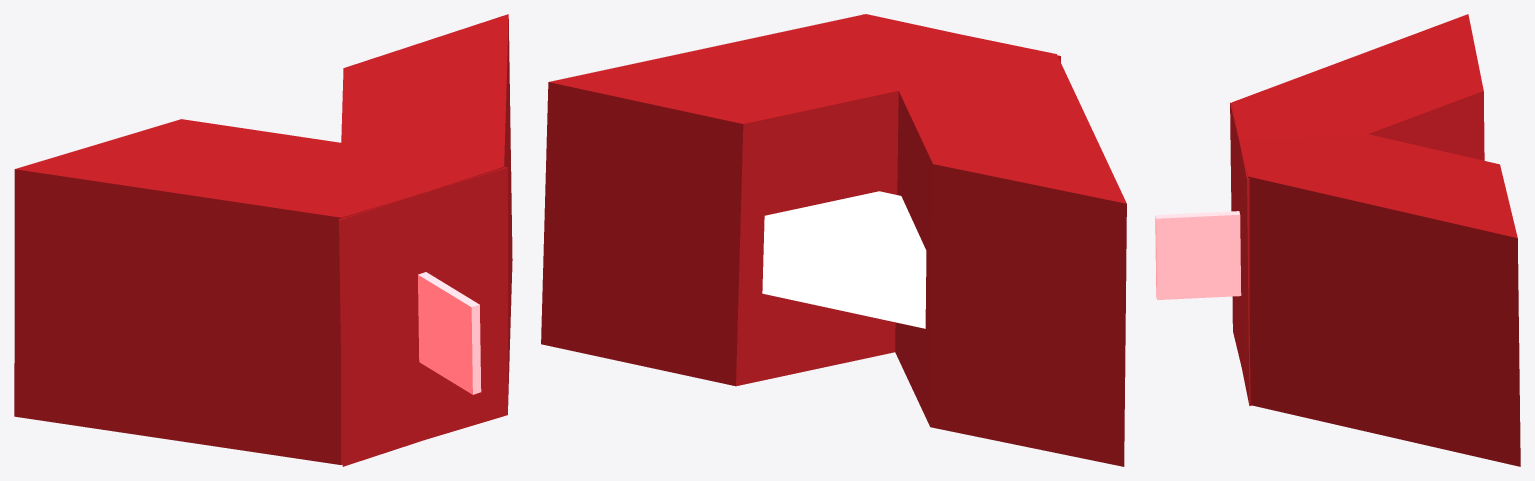
The model's file is player2.glb.
3 renders of one model, left to right at view 1: azimuth 30°, elevation 25°; view 2: azimuth 150°, elevation 25°; view 3: azimuth 270°, elevation 25°, orthographic. The views are drawn at different scales.
Parts seen in each view (by area): view 1: Cube.002, Cube, Cube.003; view 2: Cube, Cube.002, Cube.001; view 3: Cube, Cube.002, Cube.003.
Boxes of the visible parts, x1,y1,x2,y2 form: Cube.002: (14,119,507,464); Cube: (339,14,512,466); Cube.003: (418,272,481,394); Cube: (541,14,1060,386); Cube.002: (863,14,1126,466); Cube.001: (762,191,926,328); Cube: (1230,102,1520,466); Cube.002: (1231,14,1484,406); Cube.003: (1155,211,1241,299).
Bounding box in the file's own units: 0.7472 × 0.3521 × 0.4933.
